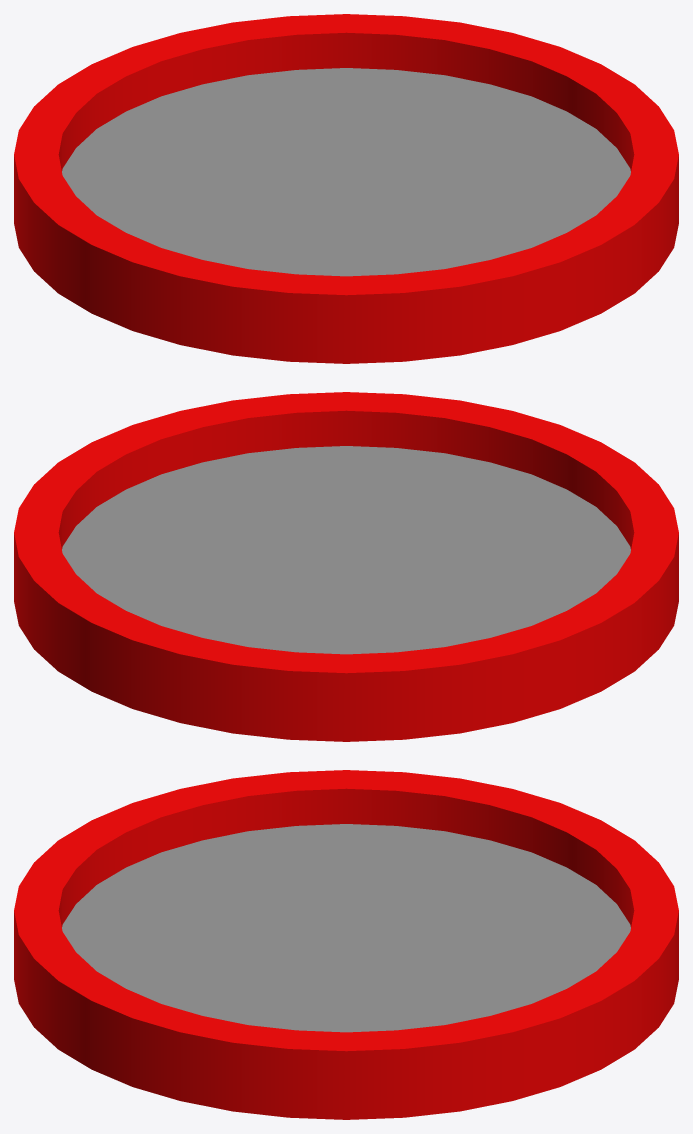
Rendered from Tree_Brick_01_Snaps014.FBX.
The picture shows the model from 3 angles, top to bottom: view 1: azimuth 30°, elevation 25°; view 2: azimuth 150°, elevation 25°; view 3: azimuth 270°, elevation 25°; orthographic projection.
Visible parts, largest first — view 1: Tree_Brick_01_LOD00; view 2: Tree_Brick_01_LOD00; view 3: Tree_Brick_01_LOD00.
Part boxes in pixels (bbox=[...]): Tree_Brick_01_LOD00: bbox=[14, 14, 678, 363]; Tree_Brick_01_LOD00: bbox=[14, 392, 678, 741]; Tree_Brick_01_LOD00: bbox=[14, 770, 678, 1119].
Size of what is drawn, in the model's own units: 217 by 24.72 by 217.
